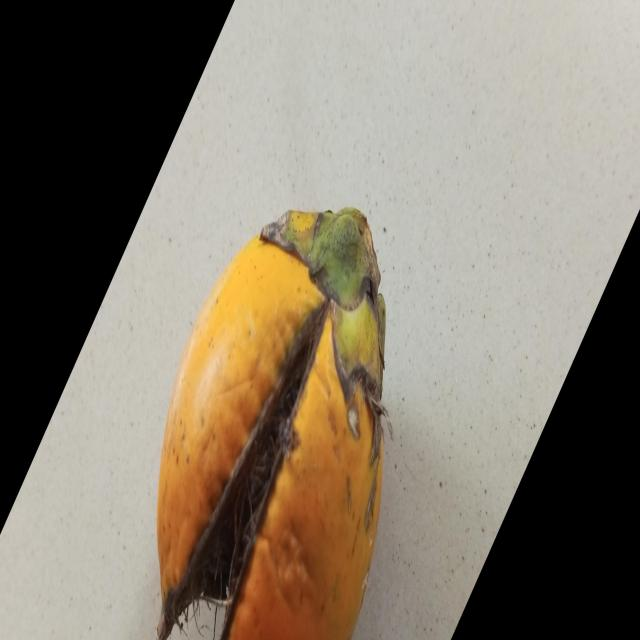damaged: (157, 208, 386, 640)
